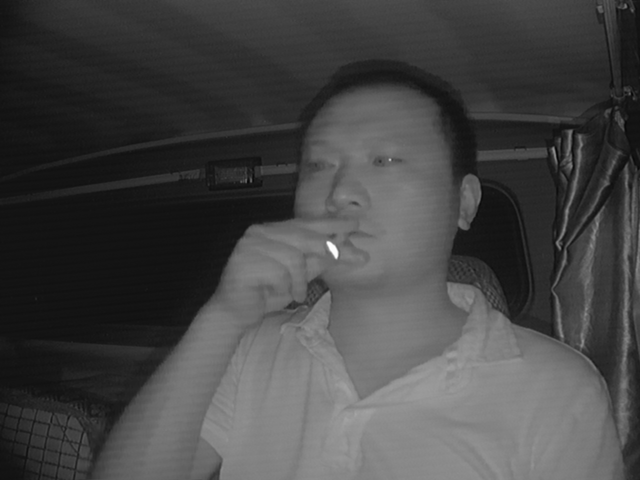hand: (247, 207, 359, 314)
